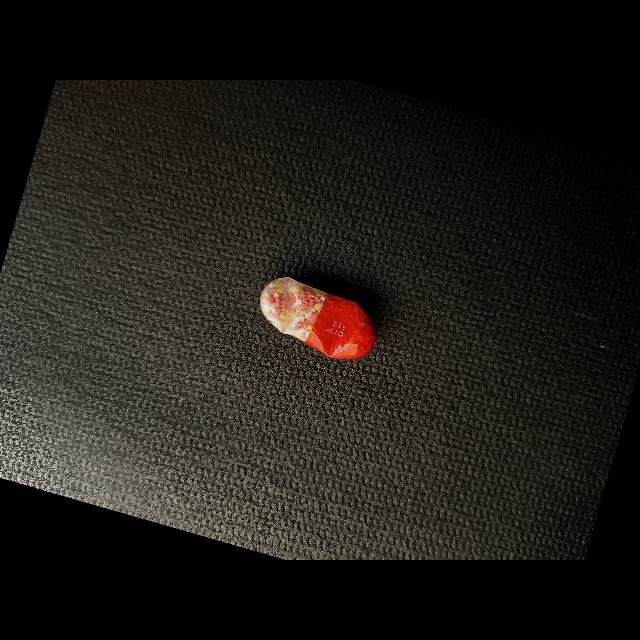Defective Capsule: (260, 277, 377, 359)
